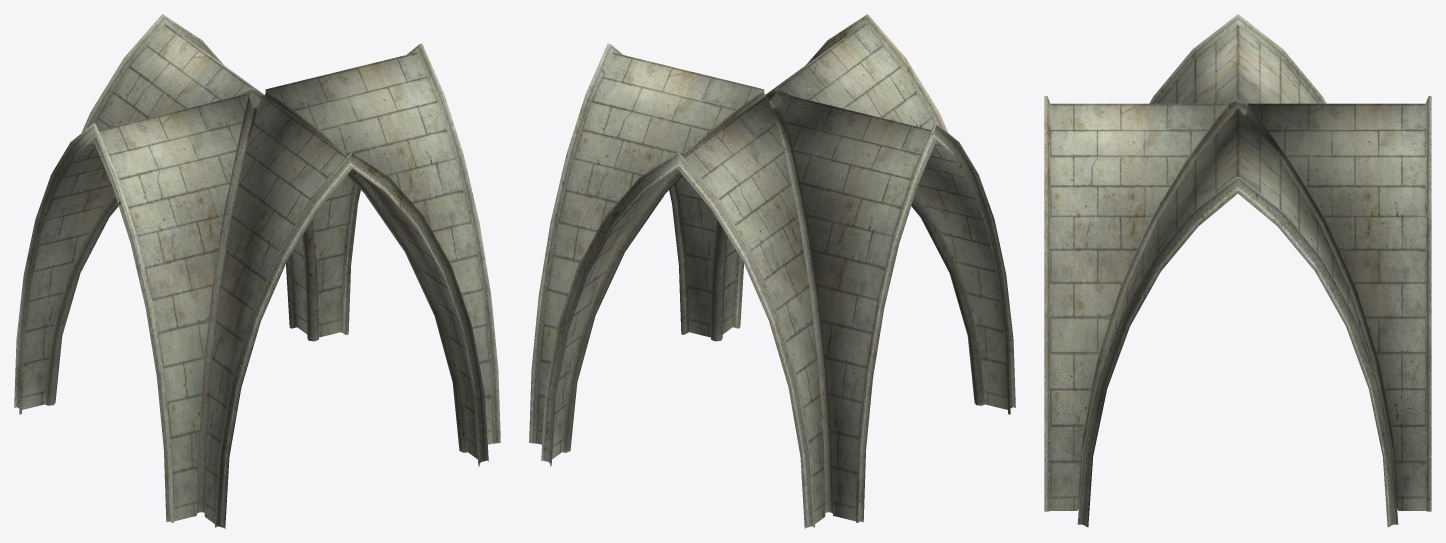
The model's file is gothic-reception-vault.glb.
The picture shows the model from 3 angles, left to right: view 1: azimuth 30°, elevation 25°; view 2: azimuth 150°, elevation 25°; view 3: azimuth 270°, elevation 25°; orthographic projection.
Visible parts, largest first — view 1: Gothic reception vault tile; view 2: Gothic reception vault tile; view 3: Gothic reception vault tile.
Boxes of the visible parts, x1,y1,x2,y2 form: Gothic reception vault tile: (14,14,500,528); Gothic reception vault tile: (529,14,1015,528); Gothic reception vault tile: (1044,14,1431,527).
Size of the model in its own units: 1 by 1 by 1.
1 material, 1 textured.
